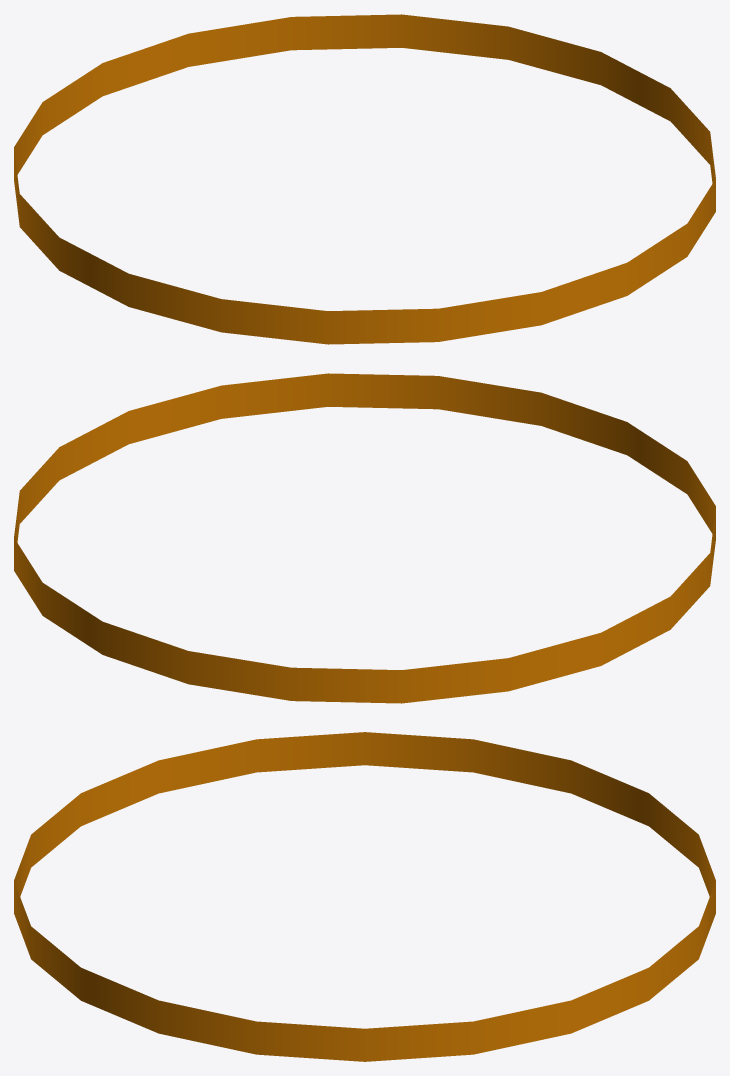
The model's file is BetterHoop.fbx.
3 renders of one model, top to bottom at view 1: azimuth 30°, elevation 25°; view 2: azimuth 150°, elevation 25°; view 3: azimuth 270°, elevation 25°, orthographic.
Parts seen in each view (by area): view 1: pCylinder1; view 2: pCylinder1; view 3: pCylinder1.
Part boxes in pixels (x1,y1,x2,y2): pCylinder1: (14,14,715,344); pCylinder1: (14,373,715,703); pCylinder1: (14,732,715,1061).
Size of the model in its own units: 19.07 by 0.9944 by 19.07.
